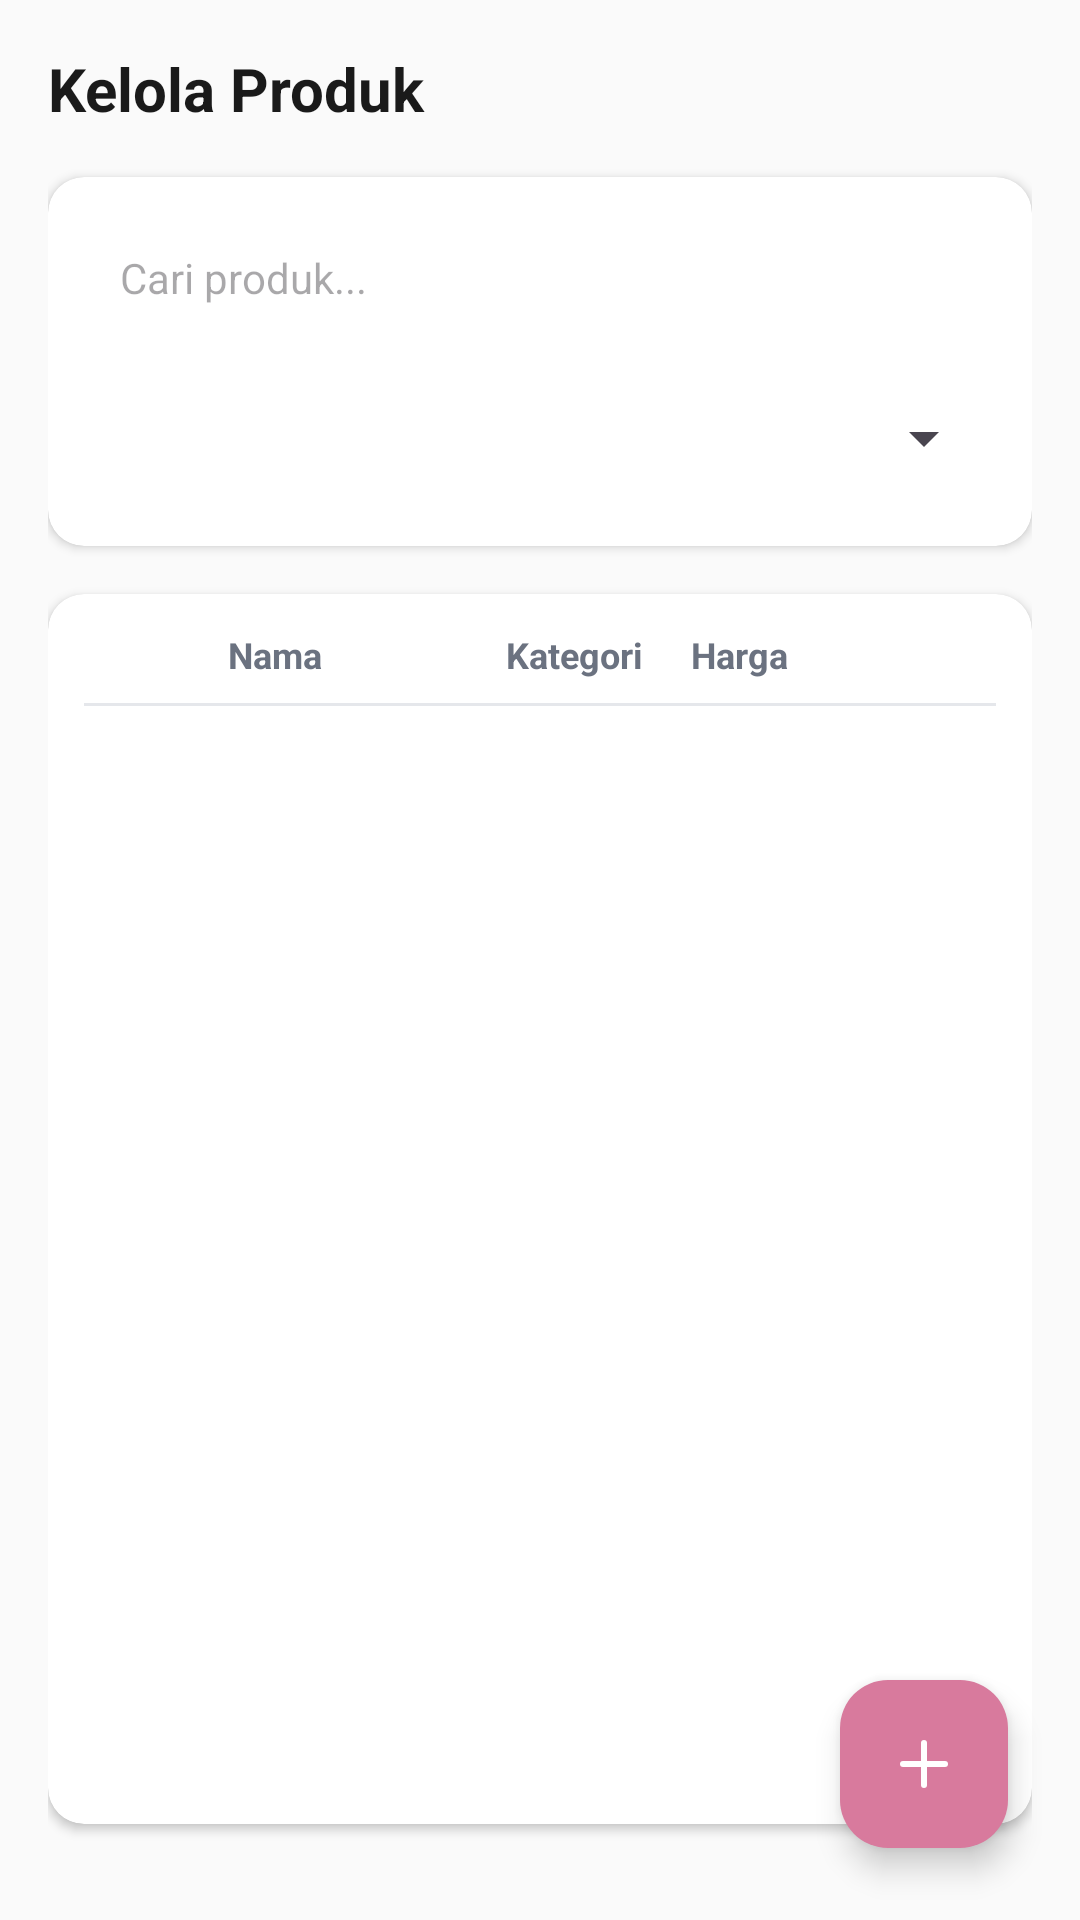

Where icons sit on this 1080*1920 app screen, as (x1, y1, x2, y2):
Tambah Produk: (840, 1680, 1008, 1848)
